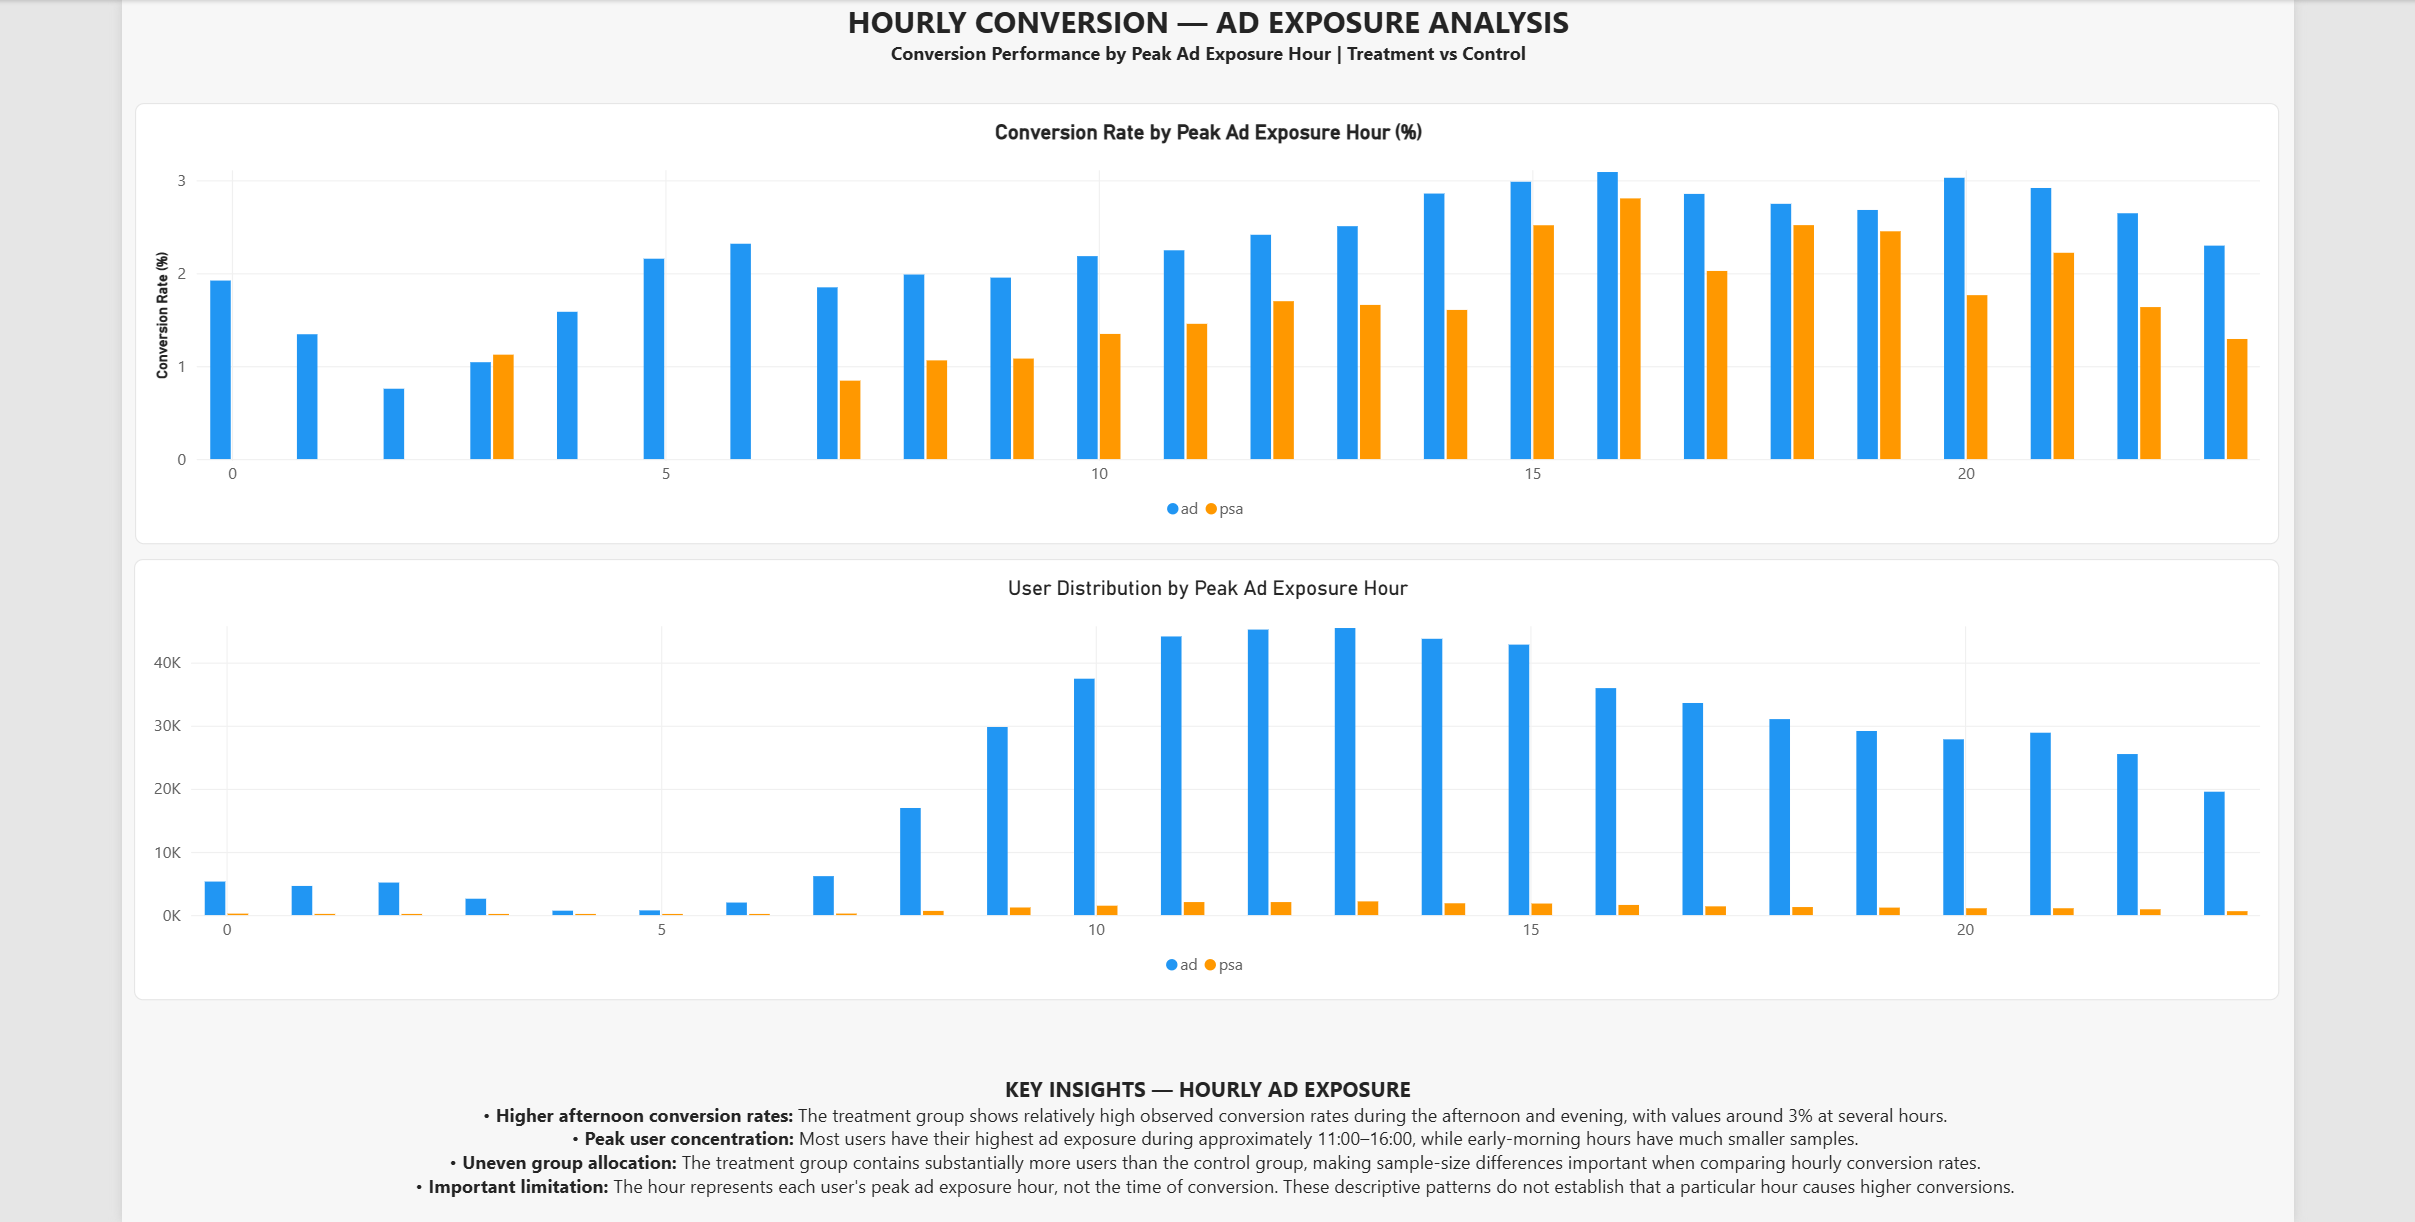

Layout of this report page (visuals, bound fields, positions):
{"tool":"powerbi","page":{"name":"04 | Hourly Conversion Analysis","canvas":[1920,1080],"ordinal":3},"visuals":[{"type":"clusteredColumnChart","title":"Conversion Rate by Peak Ad Exposure Hour (%)","fields":{"Category":["ab_test_hourly.most_ads_hour"],"Series":["ab_test_hourly.test_group"],"Y":["Avg(ab_test_hourly.conversion_rate_pct)"]},"box":[11.8,91.3,1895.5,389.7],"z":0},{"type":"clusteredColumnChart","title":"User Distribution by Peak Ad Exposure Hour","fields":{"Category":["ab_test_hourly.most_ads_hour"],"Series":["ab_test_hourly.test_group"],"Y":["Sum(ab_test_hourly.users)"]},"box":[10.8,493.7,1896.4,389.7],"z":1000},{"type":"textbox","box":[11.8,949.2,1896.4,130.6],"z":2000},{"type":"textbox","box":[12.2,0,1895.6,76.7],"z":3000}]}

Visuals, with their boxes on the page's 1920x1080 design canvas (x1, y1, x2, y2). These are canvas units, not pixel positions in the 2415x1222 screenshot, which may show the page scaled, cropped or inside an application window:
"Conversion Rate by Peak Ad Exposure Hour (%)" clusteredColumnChart: <bbox>12, 91, 1907, 481</bbox>
"User Distribution by Peak Ad Exposure Hour" clusteredColumnChart: <bbox>11, 494, 1907, 883</bbox>
textbox: <bbox>12, 949, 1908, 1080</bbox>
textbox: <bbox>12, 0, 1908, 77</bbox>
